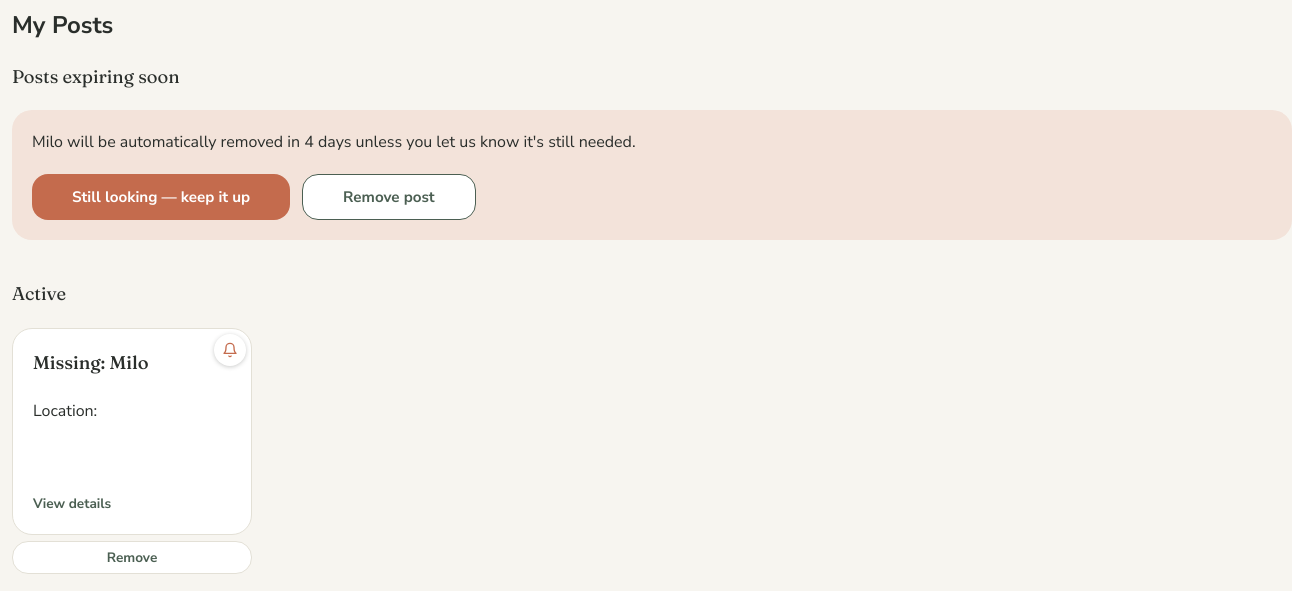
shows an expiring-soon notification, and renewing it clears the notification
Expected: the heading "Posts expiring soon" is shown, [12,65,180,88]
Expected: the text "Milo will be automatically removed in 4 days" is shown, [32,131,636,153]
Click the button "Still looking — keep it up" at (161, 197), box [32,174,290,220]
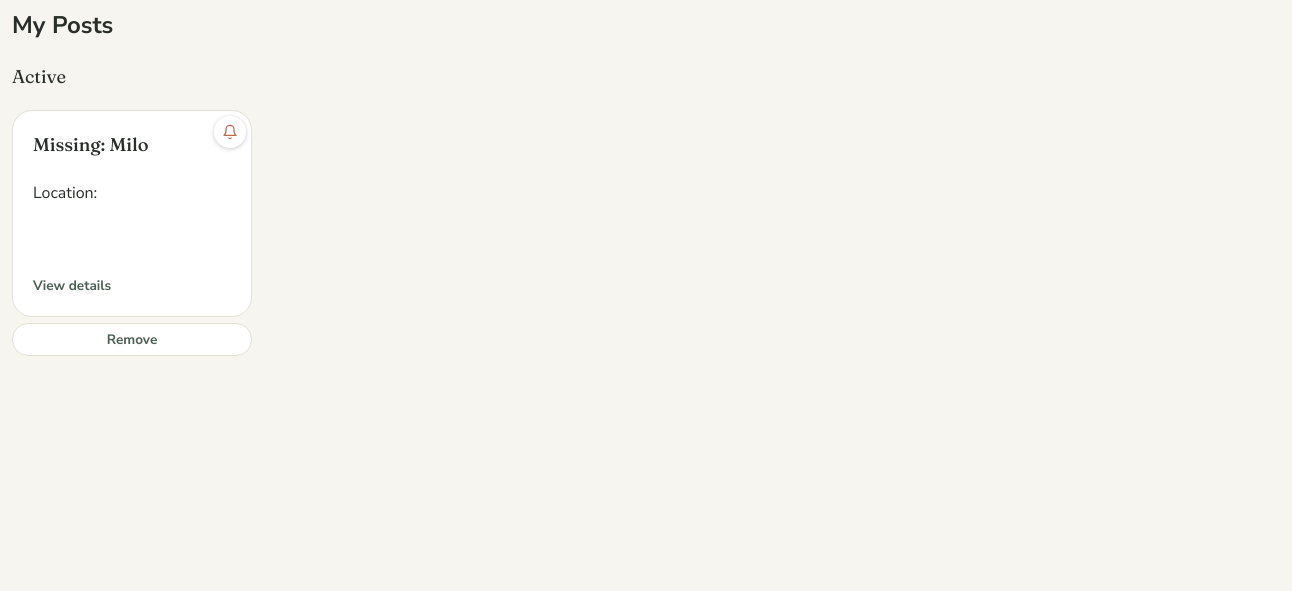
Expected: the heading "Posts expiring soon" is gone
